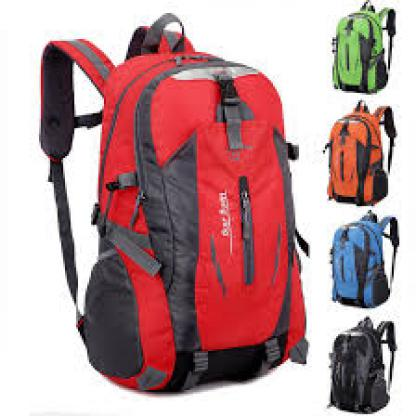morral: (22, 6, 322, 396), (312, 212, 412, 312), (314, 102, 407, 208), (314, 316, 407, 414), (329, 2, 401, 96)
